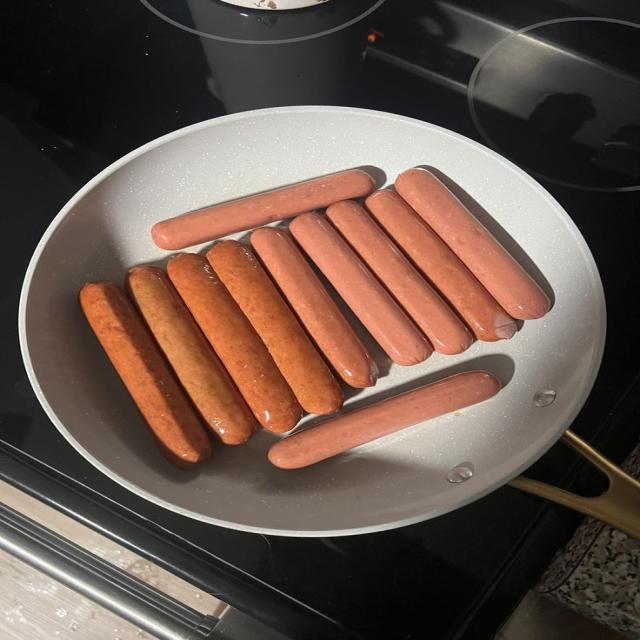sausage: (80, 282, 210, 467), (167, 254, 301, 432), (207, 241, 343, 414), (395, 168, 550, 319), (127, 265, 255, 444), (268, 371, 500, 469), (367, 190, 516, 341), (327, 201, 473, 354), (290, 213, 432, 365), (251, 228, 378, 388), (152, 169, 375, 249)
